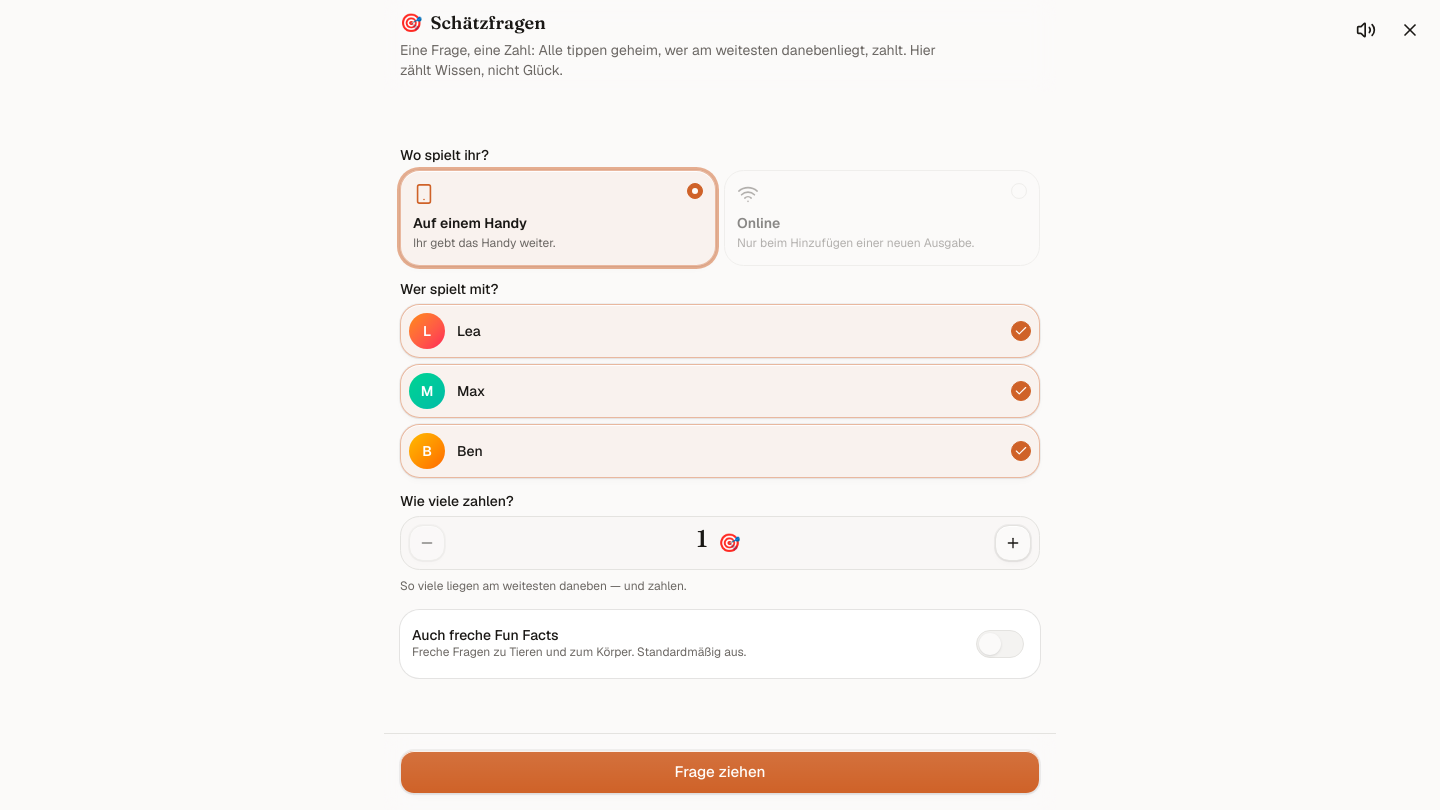
Scenario: SplitEstimateDialog › setup › starts with everyone in the pool and one payer, and caps the payers at everyone but one
Expected: the checkbox labelled "Lea" is checked, [400,304,1040,358]
Expected: the checkbox labelled "Ben" is checked, [400,424,1040,478]
What coordinates should you click on to do the following:
click the button named "Mehr"
I would click on:
 (1013, 542)
Its box is [995,524,1031,560].
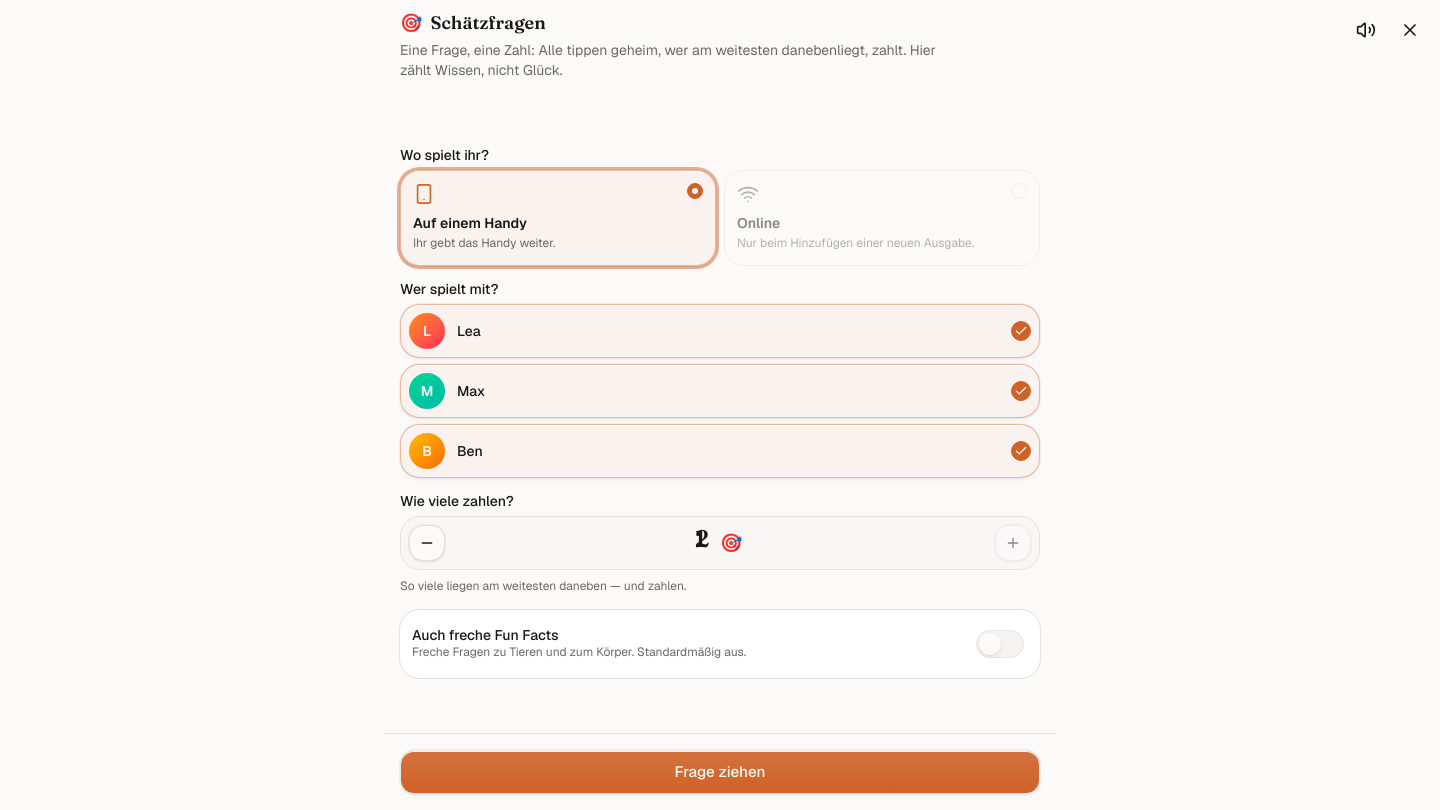
Expected: the button named "Mehr" is disabled, [995,524,1031,560]
What coordinates should you click on to do the following:
click the button named "Weniger"
I would click on:
 (427, 542)
Its box is [409,524,445,560].
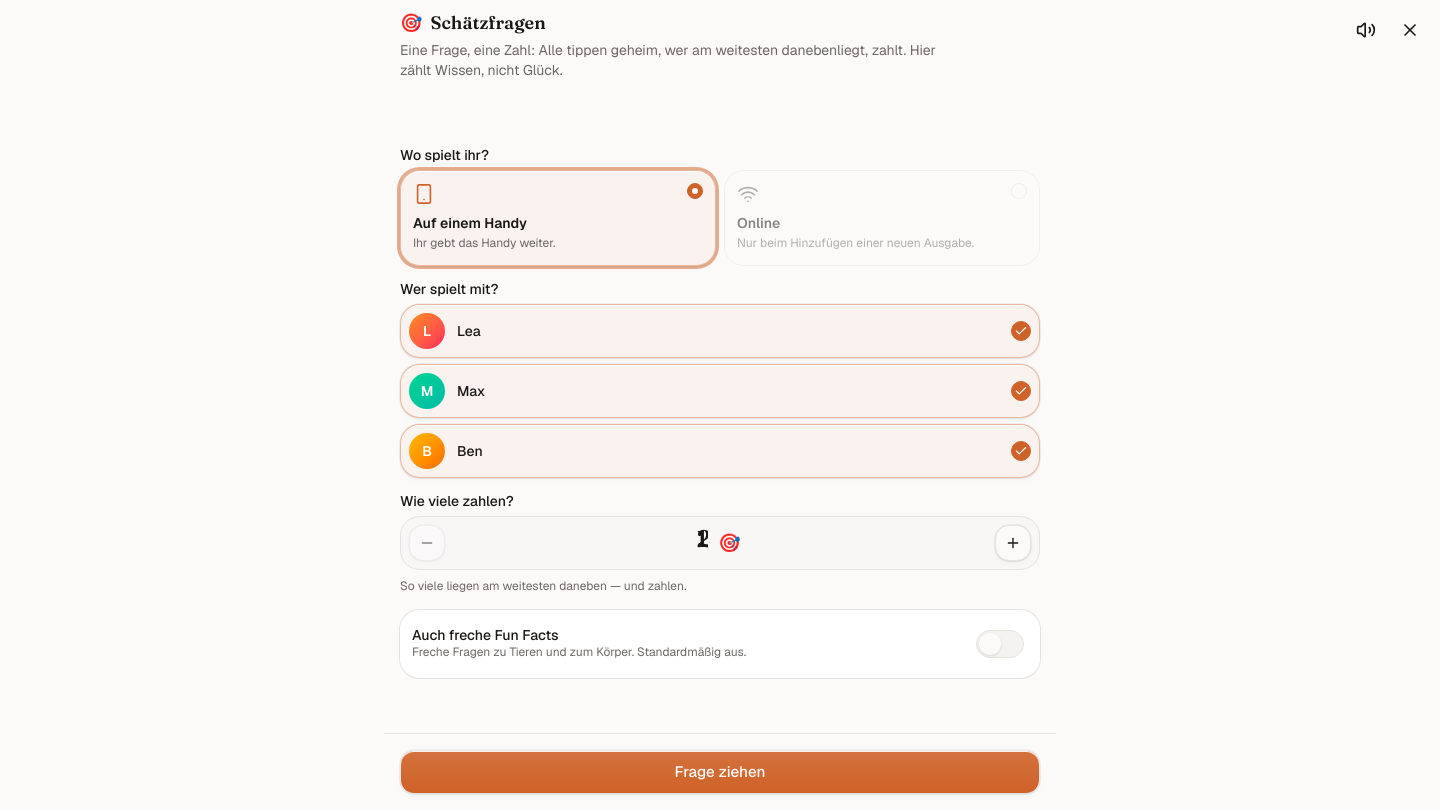
Two players: one payer at most.
What coordinates should you click on to do the following:
click the checkbox labelled "Ben"
I would click on:
 (427, 450)
Its box is [400,424,1040,478].
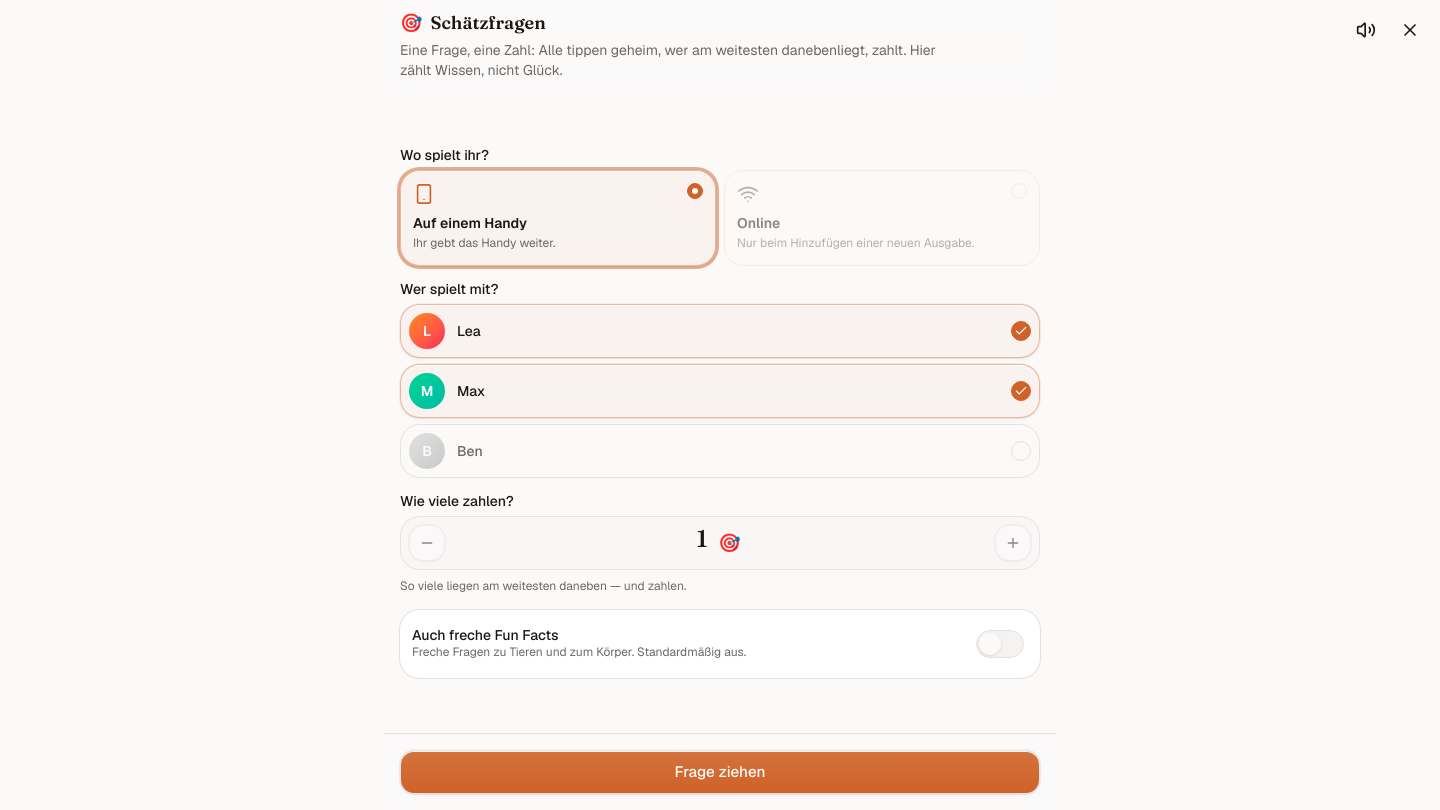
Expected: the button named "Mehr" is disabled, [995,524,1031,560]
